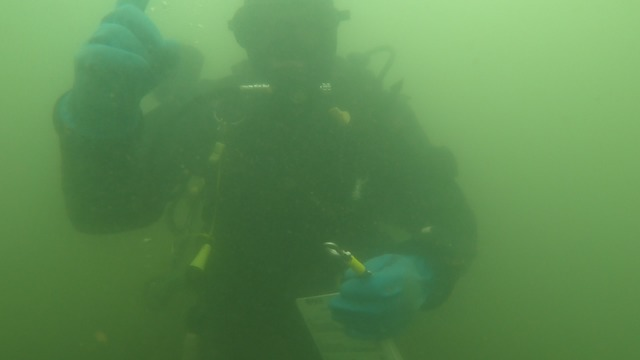Hand: (321, 239, 446, 343)
